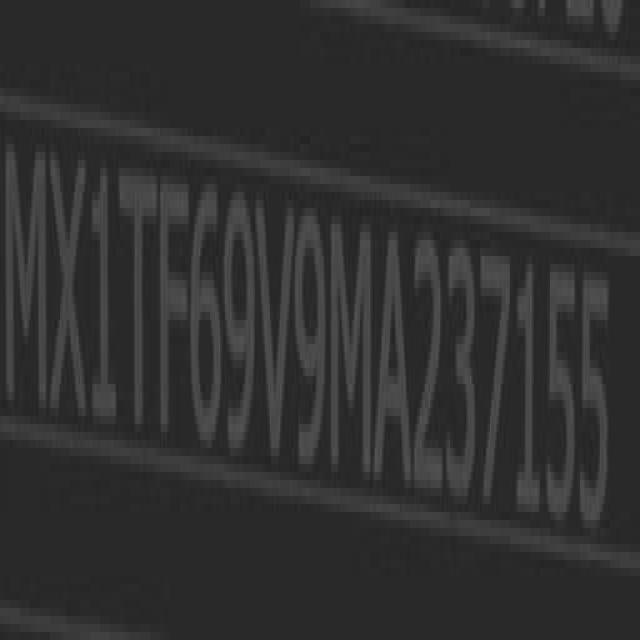1: (89, 149, 117, 438), (518, 244, 539, 530)
2: (415, 223, 444, 504)
3: (449, 230, 479, 514)
5: (582, 261, 614, 539), (548, 251, 578, 533)
6: (192, 177, 223, 458)
7: (482, 230, 512, 518)
9: (223, 182, 255, 466), (296, 196, 327, 484)
A: (377, 214, 412, 496)
F: (158, 166, 191, 462)
M: (3, 125, 48, 425), (331, 201, 376, 489)
T: (120, 163, 159, 433)
V: (256, 189, 294, 474)
X: (48, 133, 87, 434)
